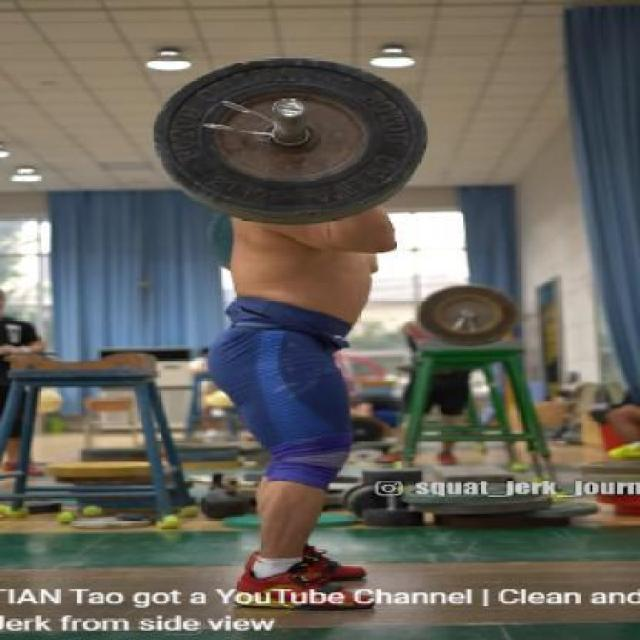barbell: (150, 55, 437, 232)
